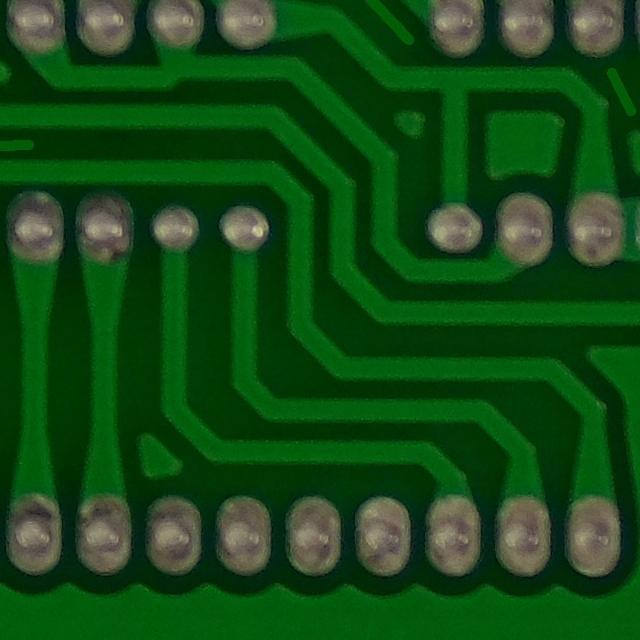spurious_copper: (319, 0, 422, 58), (585, 41, 640, 127)
